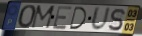D: (68, 6, 87, 31)
E: (52, 6, 74, 31)
M: (29, 5, 57, 30)
O: (16, 4, 38, 30)
S: (107, 7, 126, 32)
U: (90, 6, 112, 32)
